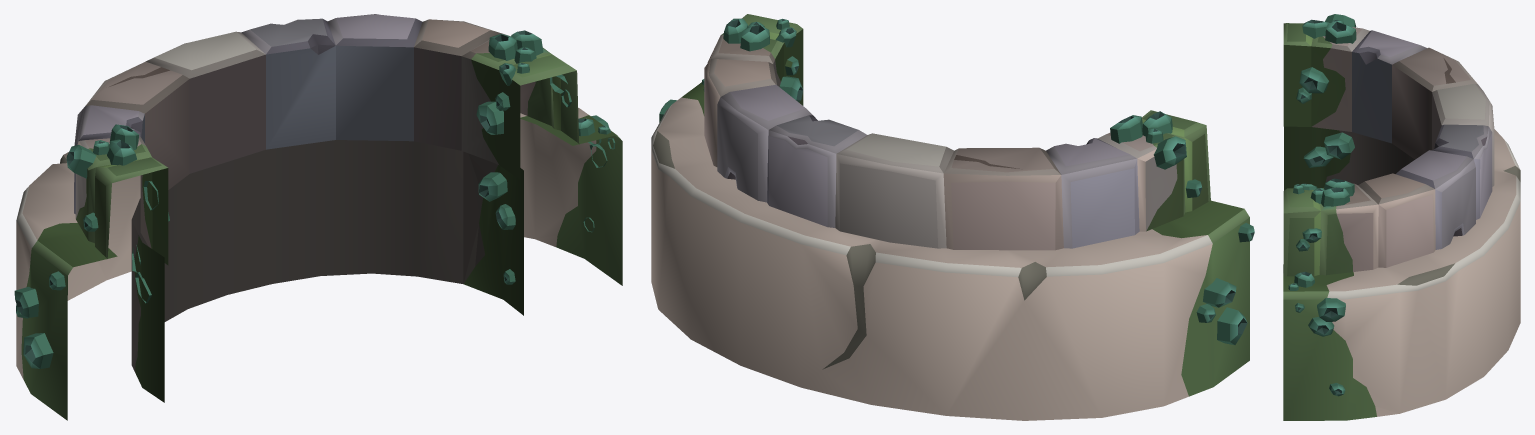
File: Culvert.fbx
3 renders of one model, left to right at view 1: azimuth 30°, elevation 25°; view 2: azimuth 150°, elevation 25°; view 3: azimuth 270°, elevation 25°, orthographic. The views are drawn at different scales.
Visible parts, largest first — view 1: Culvert (9); view 2: Culvert (9); view 3: Culvert (9).
Part boxes in pixels (x1,y1,x2,y2): Culvert (9): (14, 14, 622, 420); Culvert (9): (651, 14, 1254, 420); Culvert (9): (1283, 14, 1520, 420).
Size of the model in its own units: 258 by 108 by 109.
